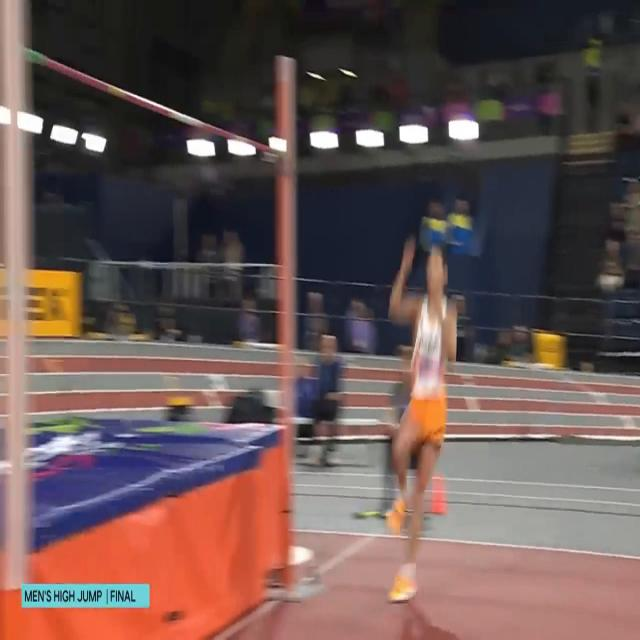jump: (385, 228, 459, 602)
